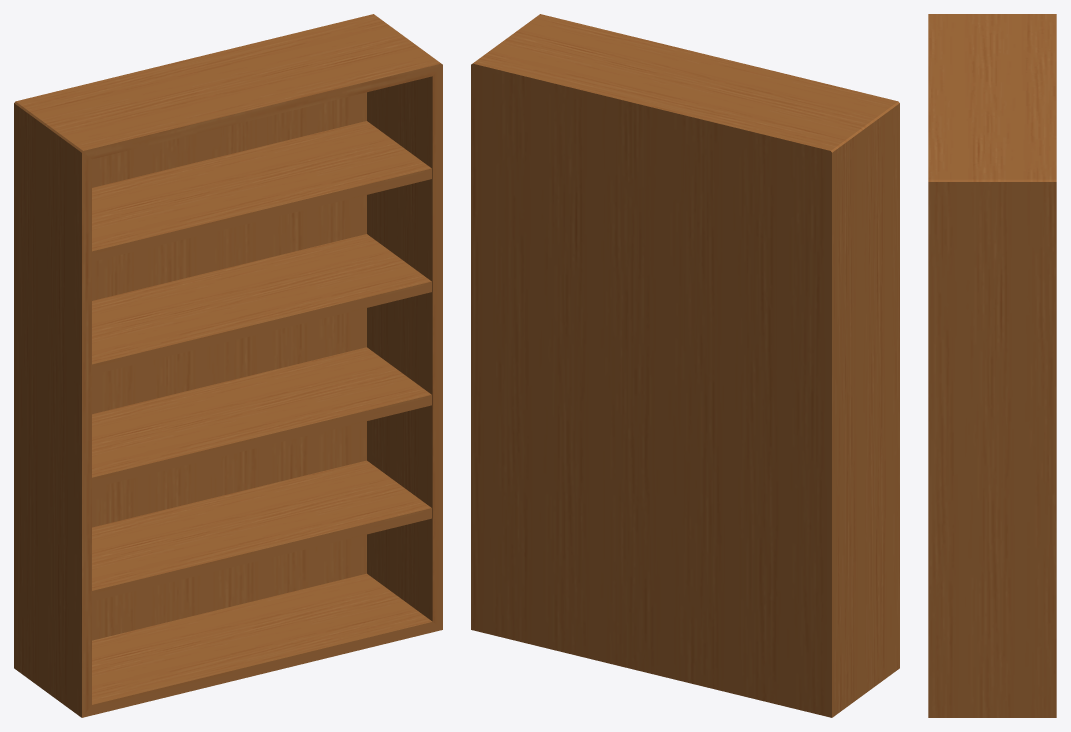
File: Bookshelf_I.FBX
The picture shows the model from 3 angles, left to right: view 1: azimuth 30°, elevation 25°; view 2: azimuth 150°, elevation 25°; view 3: azimuth 270°, elevation 25°; orthographic projection. The views are drawn at different scales.
Visible parts, largest first — view 1: Bookshelf; view 2: Bookshelf; view 3: Bookshelf.
Boxes of the visible parts, bbox=[...] form: Bookshelf: bbox=[14, 14, 442, 717]; Bookshelf: bbox=[471, 14, 899, 717]; Bookshelf: bbox=[928, 14, 1056, 717].
Size of the model in its own units: 200 by 300 by 65.
